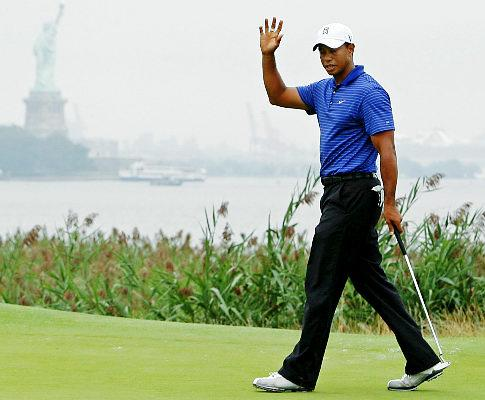person: (254, 17, 445, 393)
